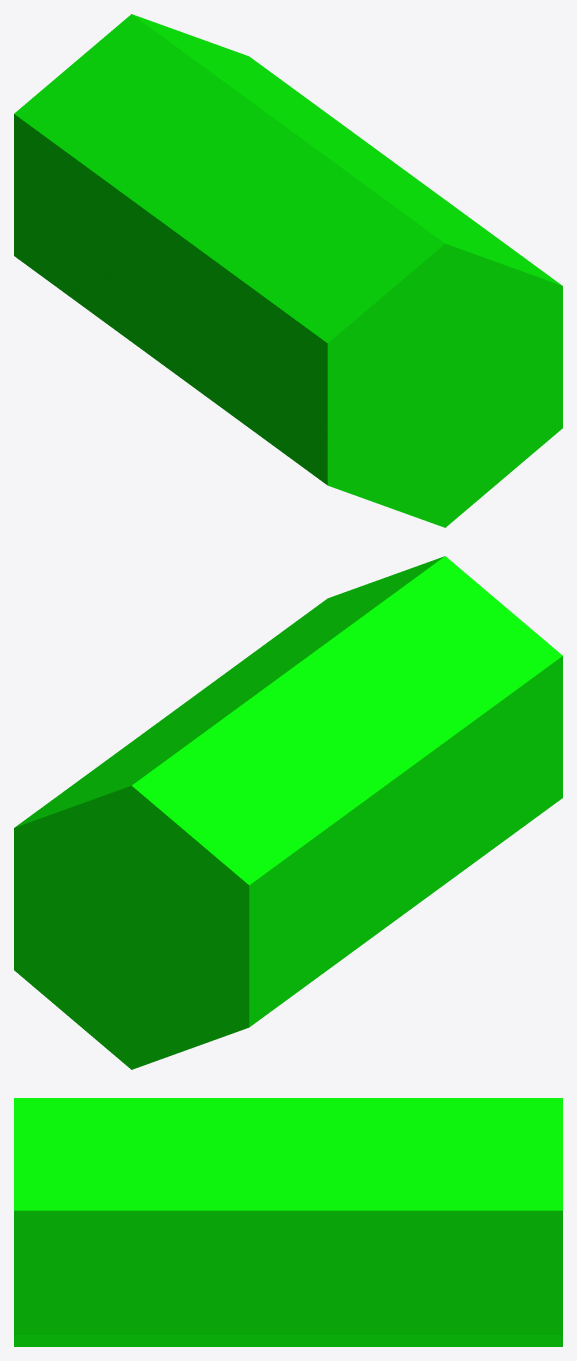
File: laser.obj
3 renders of one model, top to bottom at view 1: azimuth 30°, elevation 25°; view 2: azimuth 150°, elevation 25°; view 3: azimuth 270°, elevation 25°, orthographic. The views are drawn at different scales.
Parts seen in each view (by area): view 1: Cylinder.001; view 2: Cylinder.001; view 3: Cylinder.001.
Part boxes in pixels (x1,y1,x2,y2): Cylinder.001: (14, 14, 562, 527); Cylinder.001: (14, 556, 562, 1069); Cylinder.001: (14, 1098, 562, 1346).
Bounding box in the file's own units: 0.433 × 0.5 × 1.
